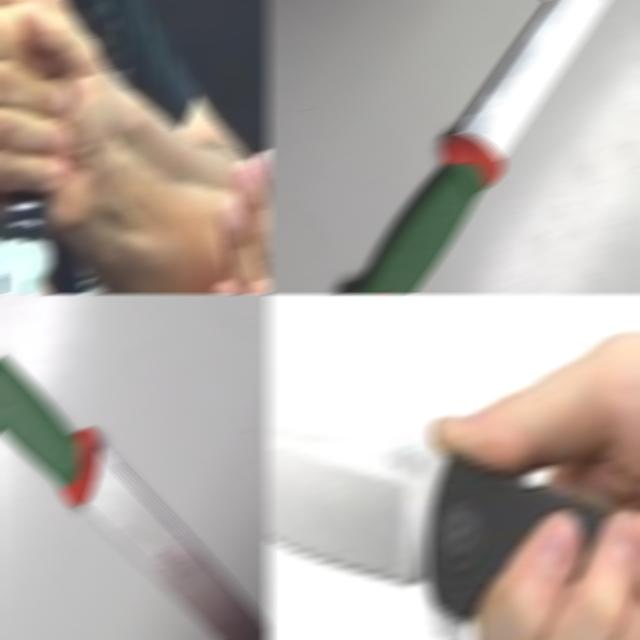Knife: (335, 0, 611, 294), (0, 357, 270, 640), (0, 192, 54, 294)
Knife_Handle: (266, 412, 640, 640), (0, 6, 100, 294)
